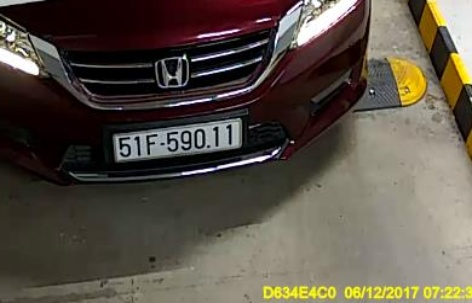plate: (109, 115, 247, 163)
